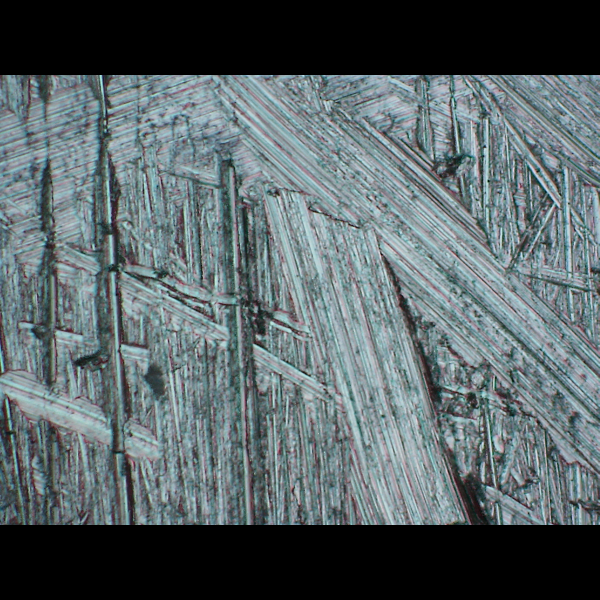d: (2, 75, 599, 520)
